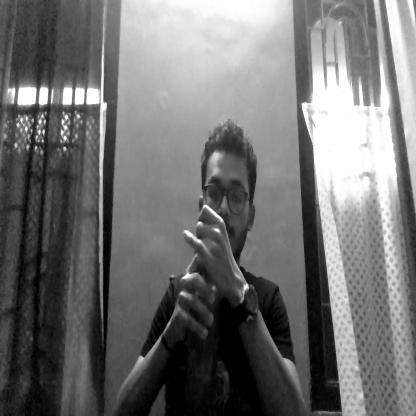Normal: (204, 124, 254, 246)
